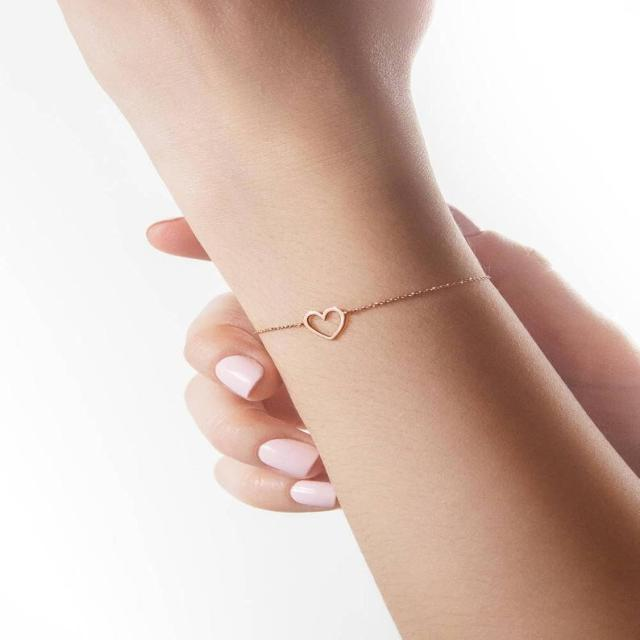Nail: (258, 439, 318, 479), (216, 356, 263, 398), (290, 481, 335, 508)
